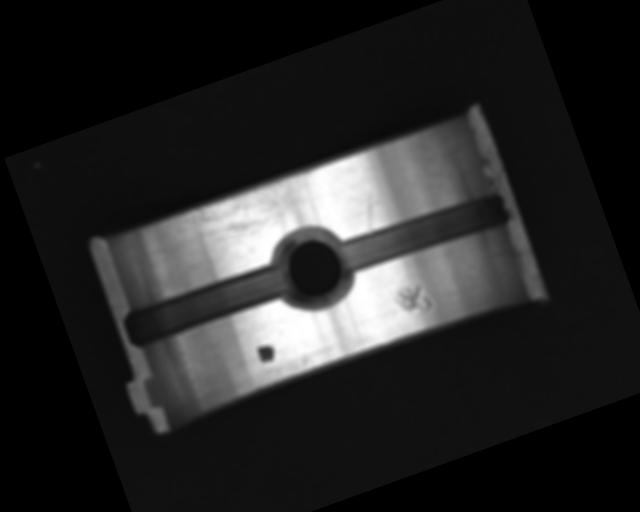blot: (254, 341, 278, 365)
bruise: (392, 281, 434, 319)
gap: (334, 183, 514, 284), (119, 258, 290, 351)
hole: (263, 218, 363, 319)
nick: (349, 178, 388, 234)
scratch: (165, 163, 330, 266)
